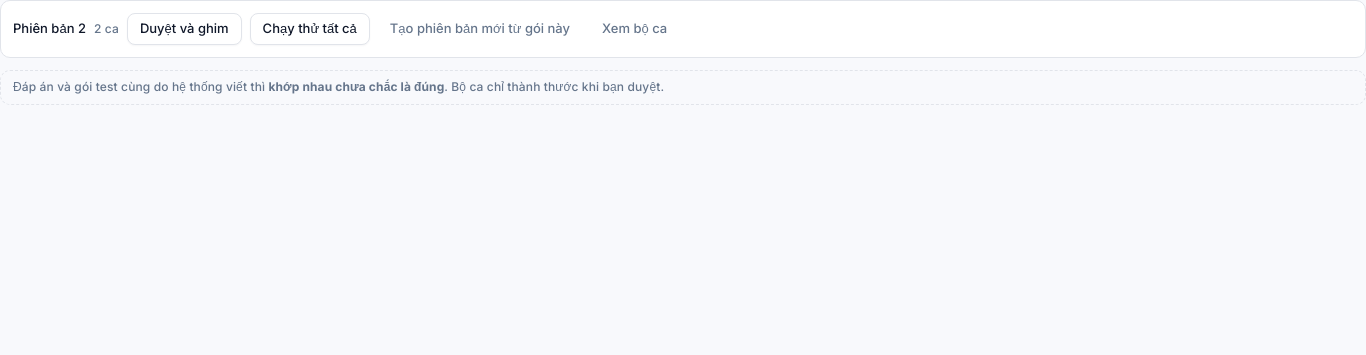
TestBundleList (UI spec §3.7, T-UI-18) › expanding a bundle shows the six columns, including the run result
Click the button "Xem bộ ca": click(635, 29) [590,13,679,45]
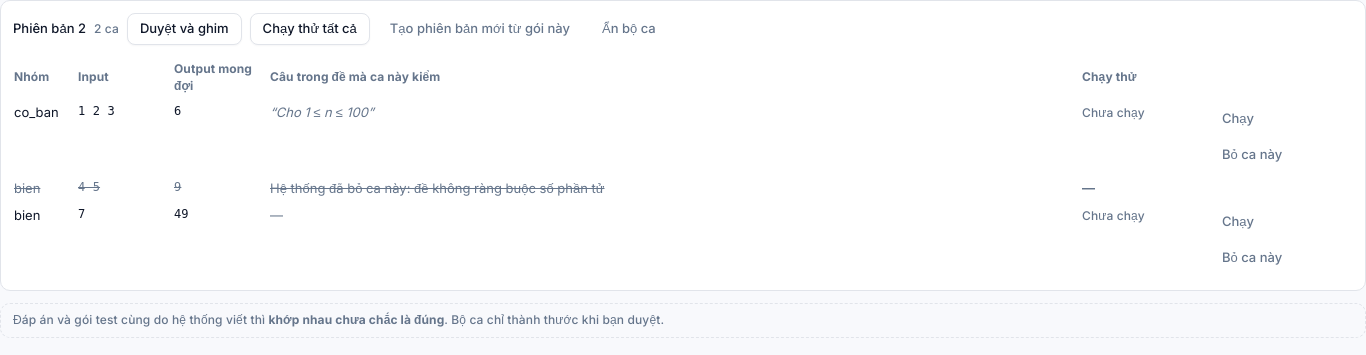
Check: the column heading "Nhóm" is shown, box [13,57,77,99]
Check: the column heading "Input" is shown, box [77,57,173,99]
Check: the column heading "Output mong đợi" is shown, box [173,57,269,99]
